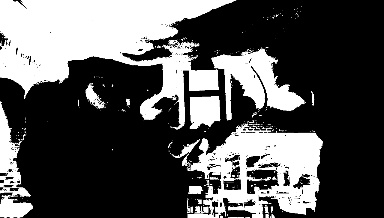H: (177, 68, 231, 123)
